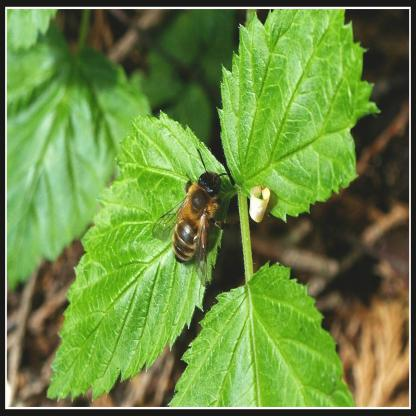raspberry leaf: (45, 97, 234, 397), (220, 0, 386, 216), (164, 255, 349, 416)
